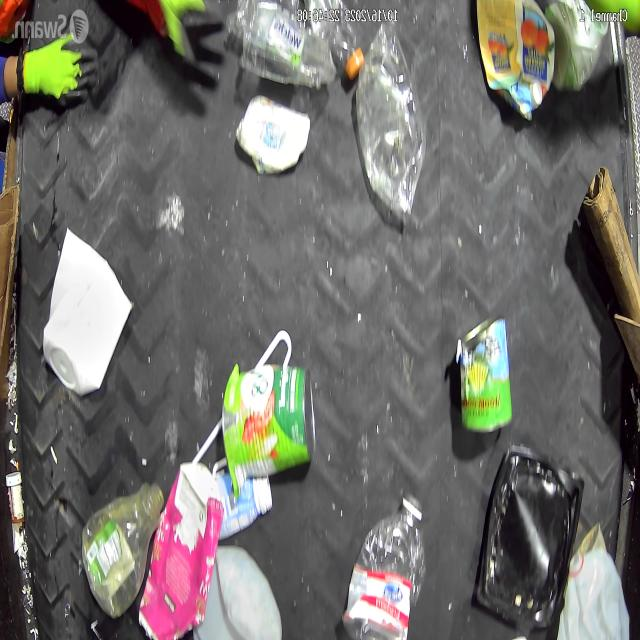can: (221, 362, 317, 480), (459, 313, 512, 433)
milk_jug: (194, 543, 282, 640), (563, 548, 631, 640)
non_white_jug: (137, 461, 224, 640)
plastic_bottle: (341, 491, 426, 640), (80, 483, 164, 620), (305, 0, 364, 79)
